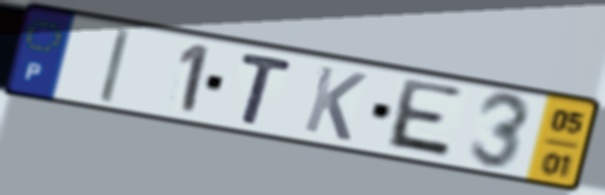1: (175, 42, 210, 118)
3: (464, 87, 535, 176)
E: (380, 76, 467, 163)
I: (95, 25, 135, 107)
K: (299, 62, 371, 145)
T: (237, 49, 297, 129)
